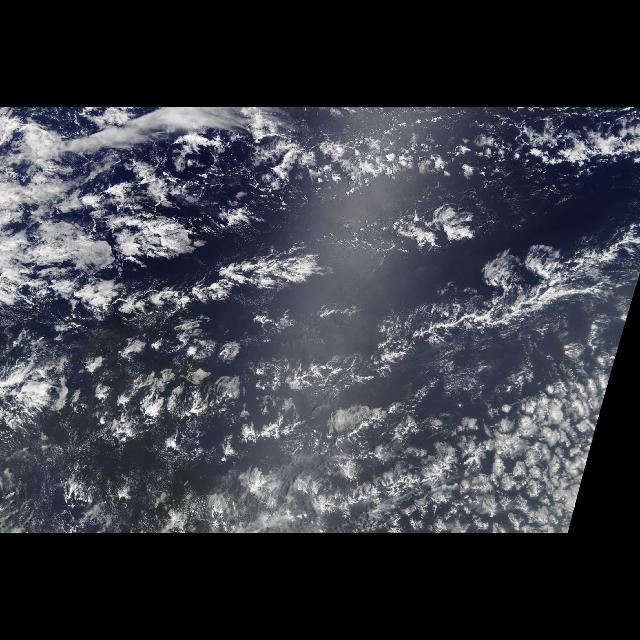Fish: (124, 118, 636, 428)
